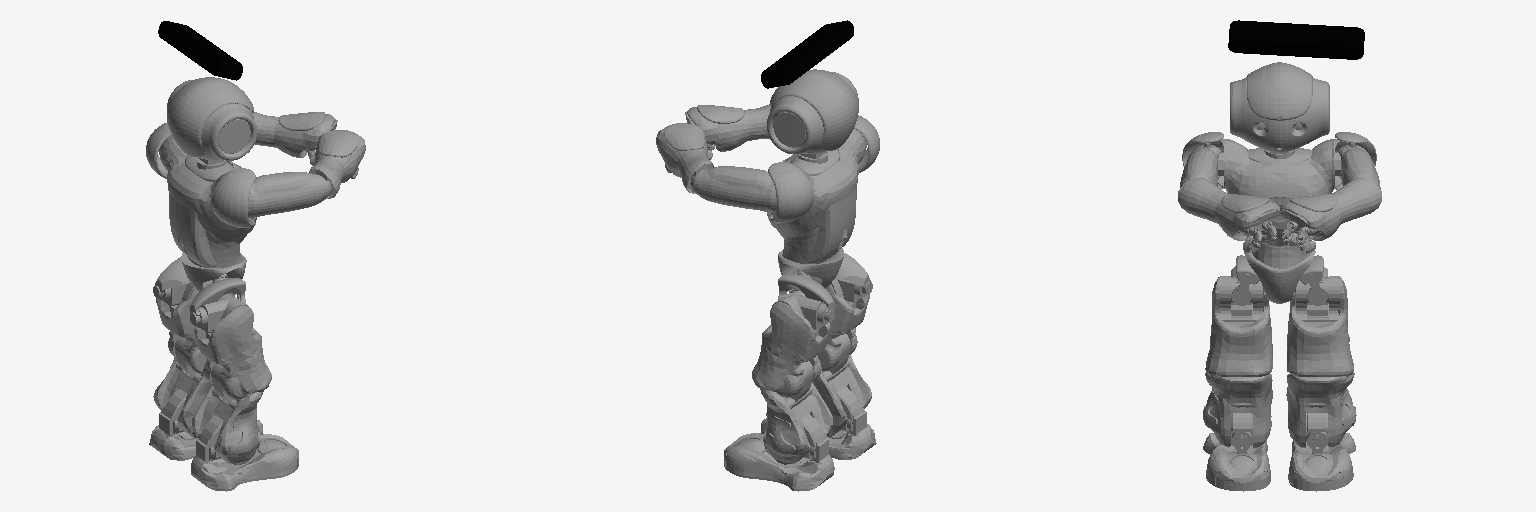
--- Facts derived from the render (not from the file) ---
3 views of the same robot in one strip: view 1: azimuth 30°, elevation 25°; view 2: azimuth 150°, elevation 25°; view 3: azimuth 270°, elevation 25° (orthographic).
Robot: NAOV40 — 84 links, 83 joints (26 revolute, 16 continuous, 41 fixed); root link base_link; default pose: joints at zero except 2 at the middle of their limits (LElbowRoll = -0.7898, RElbowRoll = 0.7898).
Links seen in each view (by area): view 1: torso, Head, RBicep, RThigh, r_ankle, RTibia, xtion_link, LTibia, l_wrist, LThigh, r_wrist, l_ankle (+5 smaller); view 2: torso, Head, LBicep, LThigh, l_ankle, LTibia, xtion_link, RTibia, r_wrist, RThigh, l_wrist, r_ankle (+5 smaller); view 3: torso, Head, LThigh, RThigh, xtion_link, LTibia, RTibia, l_ankle, r_ankle, l_wrist, r_wrist, LBicep (+5 smaller).
Link boxes in pixels (x1,y1,x2,y2): torso: (165, 140, 256, 295); Head: (167, 77, 256, 160); RBicep: (211, 168, 331, 227); RThigh: (194, 293, 271, 398); r_ankle: (191, 432, 298, 491); RTibia: (192, 363, 263, 464); xtion_link: (158, 21, 242, 80); LTibia: (153, 336, 211, 437); l_wrist: (272, 112, 337, 157); LThigh: (156, 280, 212, 373); r_wrist: (315, 130, 365, 182); l_ankle: (149, 407, 262, 460); torso: (767, 133, 860, 291); Head: (767, 69, 858, 154); LBicep: (690, 162, 813, 222); LThigh: (752, 289, 830, 397); l_ankle: (724, 431, 834, 491); LTibia: (760, 361, 832, 464); xtion_link: (761, 20, 853, 88); RTibia: (813, 334, 871, 436); r_wrist: (685, 105, 750, 151); RThigh: (812, 276, 869, 371); l_wrist: (656, 123, 707, 177); r_ankle: (761, 405, 876, 459); torso: (1218, 139, 1341, 303); Head: (1230, 62, 1329, 152); LThigh: (1287, 276, 1353, 376); RThigh: (1205, 276, 1272, 376); xtion_link: (1228, 20, 1364, 59); LTibia: (1286, 372, 1356, 447); RTibia: (1203, 373, 1272, 448); l_ankle: (1288, 432, 1355, 491); r_ankle: (1203, 432, 1270, 491); l_wrist: (1280, 194, 1345, 240); r_wrist: (1213, 194, 1279, 240); LBicep: (1335, 132, 1380, 189).
Size in the robot's own frame: 0.2792 by 0.2719 by 0.6338 metres.
40 mesh visuals loaded from 40 distinct referenced files (40 Collada DAE).

URDF robot description (NAOV40):
<?xml version="1.0" ?>
<!-- =================================================================================== -->
<!-- |    This document was autogenerated by xacro from nao_robot.xacro                | -->
<!-- |    EDITING THIS FILE BY HAND IS NOT RECOMMENDED                                 | -->
<!-- =================================================================================== -->
<!--******************************************************************
 ****** File automatically generated by generate_urdf.py script ******
 *********************************************************************-->
<robot name="NAOV40" xmlns:xacro="http://www.ros.org/wiki/xacro">
  <joint name="HeadYaw" type="revolute">
    <parent link="torso"/>
    <child link="Neck"/>
    <origin rpy="0 0 0" xyz="0 0 0.1265"/>
    <axis xyz="0 0 1.0"/>
    <limit effort="1.547" lower="-2.08567" upper="2.08567" velocity="8.26797"/>
  </joint>
  <link name="Neck">
    <inertial>
      <mass value="0.06442"/>
      <inertia ixx="2.65584e-05" ixy="1.57e-09" ixz="0" iyy="2.75654e-05" iyz="-5.295e-08" izz="5.53372e-06"/>
      <origin rpy="0 0 0" xyz="-1e-05 0 -0.02742"/>
    </inertial>
    <visual>
      <geometry>
        <mesh filename="package://nao_description/meshes/V40/HeadYaw.dae" />
      </geometry>
      <origin rpy="0 0 0" xyz="0 0 0"/>
    </visual>
    <collision>
      <geometry>
        <mesh filename="package://nao_description/meshes/V40/HeadYaw.dae" />
      </geometry>
      <origin rpy="0 0 0" xyz="0 0 0"/>
    </collision>
  </link>
  <joint name="HeadPitch" type="revolute">
    <parent link="Neck"/>
    <child link="Head"/>
    <origin rpy="0 0 0" xyz="0 0 0"/>
    <axis xyz="0 1.0 0"/>
    <limit effort="1.532" lower="-0.671952" upper="0.514872" velocity="7.19407"/>
  </joint>
  <link name="Head">
    <inertial>
      <mass value="0.60533"/>
      <inertia ixx="0.000957766" ixy="8.78814e-06" ixz="5.33702e-06" iyy="0.000816836" iyz="-2.99579e-05" izz="0.000984976"/>
      <origin rpy="0 0 0" xyz="-0.00112 0 0.05258"/>
    </inertial>
    <visual>
      <geometry>
        <mesh filename="package://nao_description/meshes/V40/HeadPitch.dae"/>
      </geometry>
      <origin rpy="0 0 0" xyz="0 0 0"/>
    </visual>
    <collision>
      <geometry>
        <mesh filename="package://nao_description/meshes/V40/HeadPitch.dae" />
      </geometry>
      <origin rpy="0 0 0" xyz="0 0 0"/>
    </collision>
  </link>
  <joint name="gaze_joint" type="fixed">
    <parent link="Head"/>
    <child link="gaze"/>
    <origin rpy="0 0 0" xyz="0.05871 0 0.06364"/>
  </joint>
  <link name="gaze"/>
  <joint name="LHipYawPitch" type="revolute">
    <parent link="torso"/>
    <child link="LPelvis"/>
    <origin rpy="0 0 0" xyz="0 0.05 -0.085"/>
    <axis xyz="0 0.707106 -0.707106"/>
    <limit effort="3.348" lower="-1.14529" upper="0.740718" velocity="4.16174"/>
  </joint>
  <link name="LPelvis">
    <inertial>
      <mass value="0.06981"/>
      <inertia ixx="2.3407e-05" ixy="1.07922e-06" ixz="-1.76003e-06" iyy="4.76355e-05" iyz="2.76058e-06" izz="4.97021e-05"/>
      <origin rpy="0 0 0" xyz="-0.00781 -0.01114 0.02661"/>
    </inertial>
    <visual>
      <geometry>
        <mesh filename="package://nao_description/meshes/V40/LHipYawPitch.dae" />
      </geometry>
      <origin rpy="0 0 0" xyz="0 0 0"/>
    </visual>
    <collision>
      <geometry>
        <mesh filename="package://nao_description/meshes/V40/LHipYawPitch.dae" />
      </geometry>
      <origin rpy="0 0 0" xyz="0 0 0"/>
    </collision>
  </link>
  <joint name="LHipRoll" type="revolute">
    <parent link="LPelvis"/>
    <child link="LHip"/>
    <origin rpy="0 0 0" xyz="0 0 0"/>
    <axis xyz="1.0 0 0"/>
    <limit effort="3.348" lower="-0.379435" upper="0.79046" velocity="4.16174"/>
  </joint>
  <link name="LHip">
    <inertial>
      <mass value="0.13053"/>
      <inertia ixx="2.41106e-05" ixy="-6.08684e-07" ixz="6.33119e-06" iyy="6.34892e-05" iyz="-1.99137e-07" izz="5.67694e-05"/>
      <origin rpy="0 0 0" xyz="-0.01549 0.00029 -0.00515"/>
    </inertial>
    <visual>
      <geometry>
        <mesh filename="package://nao_description/meshes/V40/LHipRoll.dae" />
      </geometry>
      <origin rpy="0 0 0" xyz="0 0 0"/>
    </visual>
    <collision>
      <geometry>
        <mesh filename="package://nao_description/meshes/V40/LHipRoll.dae" />
      </geometry>
      <origin rpy="0 0 0" xyz="0 0 0"/>
    </collision>
  </link>
  <joint name="LHipPitch" type="revolute">
    <parent link="LHip"/>
    <child link="LThigh"/>
    <origin rpy="0 0 0" xyz="0 0 0"/>
    <axis xyz="0 1.0 0"/>
    <limit effort="3.023" lower="-1.53589" upper="0.48398" velocity="6.40239"/>
  </joint>
  <link name="LThigh">
    <inertial>
      <mass value="0.38968"/>
      <inertia ixx="0.000509844" ixy="2.11296e-06" ixz="5.64129e-05" iyy="0.000465358" iyz="-7.91029e-06" izz="0.000301098"/>
      <origin rpy="0 0 0" xyz="0.00138 0.00221 -0.05373"/>
    </inertial>
    <visual>
      <geometry>
        <mesh filename="package://nao_description/meshes/V40/LHipPitch.dae" />
      </geometry>
      <origin rpy="0 0 0" xyz="0 0 0"/>
    </visual>
    <collision>
      <geometry>
        <mesh filename="package://nao_description/meshes/V40/LHipPitch.dae" />
      </geometry>
      <origin rpy="0 0 0" xyz="0 0 0"/>
    </collision>
  </link>
  <joint name="LKneePitch" type="revolute">
    <parent link="LThigh"/>
    <child link="LTibia"/>
    <origin rpy="0 0 0" xyz="0 0 -0.1"/>
    <axis xyz="0 1.0 0"/>
    <limit effort="3.023" lower="-0.0923279" upper="2.11255" velocity="6.40239"/>
  </joint>
  <link name="LTibia">
    <inertial>
      <mass value="0.29142"/>
      <inertia ixx="0.000470586" ixy="3.60392e-06" ixz="-2.86648e-05" iyy="0.000412654" iyz="7.13013e-06" izz="0.000185772"/>
      <origin rpy="0 0 0" xyz="0.00453 0.00225 -0.04936"/>
    </inertial>
    <visual>
      <geometry>
        <mesh filename="package://nao_description/meshes/V40/LKneePitch.dae" />
      </geometry>
      <origin rpy="0 0 0" xyz="0 0 0"/>
    </visual>
    <collision>
      <geometry>
        <mesh filename="package://nao_description/meshes/V40/LKneePitch.dae" />
      </geometry>
      <origin rpy="0 0 0" xyz="0 0 0"/>
    </collision>
  </link>
  <joint name="LAnklePitch" type="revolute">
    <parent link="LTibia"/>
    <child link="LAnklePitch"/>
    <origin rpy="0 0 0" xyz="0 0 -0.1029"/>
    <axis xyz="0 1.0 0"/>
    <limit effort="3.023" lower="-1.18944" upper="0.922581" velocity="6.40239"/>
  </joint>
  <link name="LAnklePitch">
    <inertial>
      <mass value="0.13416"/>
      <inertia ixx="3.22034e-05" ixy="-8.83212e-09" ixz="4.27549e-06" iyy="6.7943e-05" iyz="2.84849e-07" izz="5.48269e-05"/>
      <origin rpy="0 0 0" xyz="0.00045 0.00029 0.00685"/>
    </inertial>
    <visual>
      <geometry>
        <mesh filename="package://nao_description/meshes/V40/LAnklePitch.dae" />
      </geometry>
      <origin rpy="0 0 0" xyz="0 0 0"/>
    </visual>
    <collision>
      <geometry>
        <mesh filename="package://nao_description/meshes/V40/LAnklePitch.dae" />
      </geometry>
      <origin rpy="0 0 0" xyz="0 0 0"/>
    </collision>
  </link>
  <joint name="LAnkleRoll" type="revolute">
    <parent link="LAnklePitch"/>
    <child link="l_ankle"/>
    <origin rpy="0 0 0" xyz="0 0 0"/>
    <axis xyz="1.0 0 0"/>
    <limit effort="3.348" lower="-0.397761" upper="0.768992" velocity="4.16174"/>
  </joint>
  <link name="l_ankle">
    <inertial>
      <mass value="0.16184"/>
      <inertia ixx="9.78911e-05" ixy="7.88039e-06" ixz="6.1279e-06" iyy="0.000369977" iyz="1.44233e-06" izz="0.000419417"/>
      <origin rpy="0 0 0" xyz="0.02542 0.0033 -0.03239"/>
    </inertial>
    <visual>
      <geometry>
        <mesh filename="package://nao_description/meshes/V40/LAnkleRoll.dae" />
      </geometry>
      <origin rpy="0 0 0" xyz="0 0 0"/>
    </visual>
    <collision>
      <geometry>
        <mesh filename="package://nao_description/meshes/V40/LAnkleRoll.dae" />
      </geometry>
      <origin rpy="0 0 0" xyz="0 0 0"/>
    </collision>
  </link>
  <joint name="LLeg_effector_fixedjoint" type="fixed">
    <parent link="l_ankle"/>
    <child link="l_sole"/>
    <origin rpy="0 0 0" xyz="0 0 -0.04511"/>
    <axis xyz="0 0 0"/>
  </joint>
  <link name="l_sole"/>
  <joint name="RHipYawPitch" type="revolute">
    <parent link="torso"/>
    <child link="RPelvis"/>
    <origin rpy="0 0 0" xyz="0 -0.05 -0.085"/>
    <axis xyz="0 0.707106 0.707106"/>
    <limit effort="3.348" lower="-1.14529" upper="0.740718" velocity="4.16174"/>
    <mimic joint="LHipYawPitch" multiplier="1.0" offset="0"/>
  </joint>
  <link name="RPelvis">
    <inertial>
      <mass value="0.06981"/>
      <inertia ixx="3.18766e-05" ixy="-1.07152e-06" ixz="-1.77295e-06" iyy="5.18361e-05" iyz="-7.00664e-06" izz="5.39657e-05"/>
      <origin rpy="0 0 0" xyz="-0.00781 0.01114 0.02661"/>
    </inertial>
    <visual>
      <geometry>
        <mesh filename="package://nao_description/meshes/V40/RHipYawPitch.dae" />
      </geometry>
      <origin rpy="0 0 0" xyz="0 0 0"/>
    </visual>
    <collision>
      <geometry>
        <mesh filename="package://nao_description/meshes/V40/RHipYawPitch.dae" />
      </geometry>
      <origin rpy="0 0 0" xyz="0 0 0"/>
    </collision>
  </link>
  <joint name="RHipRoll" type="revolute">
    <parent link="RPelvis"/>
    <child link="RHip"/>
    <origin rpy="0 0 0" xyz="0 0 0"/>
    <axis xyz="1.0 0 0"/>
    <limit effort="3.348" lower="-0.79046" upper="0.379435" velocity="4.16174"/>
  </joint>
  <link name="RHip">
    <inertial>
      <mass value="0.13053"/>
      <inertia ixx="2.41136e-05" ixy="5.67164e-07" ixz="6.30461e-06" iyy="6.34886e-05" iyz="1.97457e-07" izz="5.6773e-05"/>
      <origin rpy="0 0 0" xyz="-0.01549 -0.00029 -0.00515"/>
    </inertial>
    <visual>
      <geometry>
        <mesh filename="package://nao_description/meshes/V40/RHipRoll.dae" />
      </geometry>
      <origin rpy="0 0 0" xyz="0 0 0"/>
    </visual>
    <collision>
      <geometry>
        <mesh filename="package://nao_description/meshes/V40/RHipRoll.dae" />
      </geometry>
      <origin rpy="0 0 0" xyz="0 0 0"/>
    </collision>
  </link>
  <joint name="RHipPitch" type="revolute">
    <parent link="RHip"/>
    <child link="RThigh"/>
    <origin rpy="0 0 0" xyz="0 0 0"/>
    <axis xyz="0 1.0 0"/>
    <limit effort="3.0226" lower="-1.53589" upper="0.48398" velocity="6.40239"/>
  </joint>
  <link name="RThigh">
    <inertial>
      <mass value="0.38968"/>
      <inertia ixx="0.000510607" ixy="-2.02799e-06" ixz="5.69893e-05" iyy="0.0004665" iyz="7.09563e-06" izz="0.000301333"/>
      <origin rpy="0 0 0" xyz="0.00138 -0.00221 -0.05373"/>
    </inertial>
    <visual>
      <geometry>
        <mesh filename="package://nao_description/meshes/V40/RHipPitch.dae" />
      </geometry>
      <origin rpy="0 0 0" xyz="0 0 0"/>
    </visual>
    <collision>
      <geometry>
        <mesh filename="package://nao_description/meshes/V40/RHipPitch.dae" />
      </geometry>
      <origin rpy="0 0 0" xyz="0 0 0"/>
    </collision>
  </link>
  <joint name="RKneePitch" type="revolute">
    <parent link="RThigh"/>
    <child link="RTibia"/>
    <origin rpy="0 0 0" xyz="0 0 -0.1"/>
    <axis xyz="0 1.0 0"/>
    <limit effort="3.0226" lower="-0.0923279" upper="2.11255" velocity="6.40239"/>
  </joint>
  <link name="RTibia">
    <inertial>
      <mass value="0.29142"/>
      <inertia ixx="0.000471336" ixy="-3.8668e-06" ixz="-3.71648e-05" iyy="0.00041228" iyz="-6.11093e-06" izz="0.000183997"/>
      <origin rpy="0 0 0" xyz="0.00453 -0.00225 -0.04936"/>
    </inertial>
    <visual>
      <geometry>
        <mesh filename="package://nao_description/meshes/V40/RKneePitch.dae" />
      </geometry>
      <origin rpy="0 0 0" xyz="0 0 0"/>
    </visual>
    <collision>
      <geometry>
        <mesh filename="package://nao_description/meshes/V40/RKneePitch.dae" />
      </geometry>
      <origin rpy="0 0 0" xyz="0 0 0"/>
    </collision>
  </link>
  <joint name="RAnklePitch" type="revolute">
    <parent link="RTibia"/>
    <child link="RAnklePitch"/>
    <origin rpy="0 0 0" xyz="0 0 -0.1029"/>
    <axis xyz="0 1.0 0"/>
    <limit effort="3.0226" lower="-1.1863" upper="0.932006" velocity="6.40239"/>
  </joint>
  <link name="RAnklePitch">
    <inertial>
      <mass value="0.13416"/>
      <inertia ixx="3.22017e-05" ixy="4.68321e-08" ixz="4.28821e-06" iyy="6.79885e-05" iyz="-2.71089e-07" izz="5.48747e-05"/>
      <origin rpy="0 0 0" xyz="0.00045 -0.00029 0.00685"/>
    </inertial>
    <visual>
      <geometry>
        <mesh filename="package://nao_description/meshes/V40/RAnklePitch.dae" />
      </geometry>
      <origin rpy="0 0 0" xyz="0 0 0"/>
    </visual>
    <collision>
      <geometry>
        <mesh filename="package://nao_description/meshes/V40/RAnklePitch.dae" />
      </geometry>
      <origin rpy="0 0 0" xyz="0 0 0"/>
    </collision>
  </link>
  <joint name="RAnkleRoll" type="revolute">
    <parent link="RAnklePitch"/>
    <child link="r_ankle"/>
    <origin rpy="0 0 0" xyz="0 0 0"/>
    <axis xyz="1.0 0 0"/>
    <limit effort="3.348" lower="-0.768992" upper="0.397761" velocity="4.16174"/>
  </joint>
  <link name="r_ankle">
    <inertial>
      <mass value="0.16184"/>
      <inertia ixx="9.77513e-05" ixy="-7.70106e-06" ixz="5.88169e-06" iyy="0.000369108" iyz="-1.55058e-06" izz="0.000418695"/>
      <origin rpy="0 0 0" xyz="0.02542 -0.0033 -0.03239"/>
    </inertial>
    <visual>
      <geometry>
        <mesh filename="package://nao_description/meshes/V40/RAnkleRoll.dae" />
      </geometry>
      <origin rpy="0 0 0" xyz="0 0 0"/>
    </visual>
    <collision>
      <geometry>
        <mesh filename="package://nao_description/meshes/V40/RAnkleRoll.dae" />
      </geometry>
      <origin rpy="0 0 0" xyz="0 0 0"/>
    </collision>
  </link>
  <joint name="RLeg_effector_fixedjoint" type="fixed">
    <parent link="r_ankle"/>
    <child link="r_sole"/>
    <origin rpy="0 0 0" xyz="0 0 -0.04511"/>
    <axis xyz="0 0 0"/>
  </joint>
  <link name="r_sole"/>
  <link name="base_link"/>
  <joint name="base_link_fixedjoint" type="fixed">
    <parent link="base_link"/>
    <child link="torso"/>
    <origin rpy="0 0 0" xyz="0 0 0"/>
    <axis xyz="0 0 0"/>
  </joint>
  <link name="torso">
    <inertial>
      <mass value="1.04956"/>
      <inertia ixx="0.00308361" ixy="1.43116e-05" ixz="-3.30211e-05" iyy="0.0028835" iyz="-2.70793e-05" izz="0.0015924"/>
      <origin rpy="0 0 0" xyz="-0.00413 0 0.04342"/>
    </inertial>
    <visual>
      <geometry>
        <mesh filename="package://nao_description/meshes/V40/Torso.dae" />
      </geometry>
      <origin rpy="0 0 0" xyz="0 0 0"/>
    </visual>
    <collision>
      <geometry>
        <mesh filename="package://nao_description/meshes/V40/Torso.dae" />
      </geometry>
      <origin rpy="0 0 0" xyz="0 0 0"/>
    </collision>
  </link>
  <joint name="LShoulderPitch" type="revolute">
    <parent link="torso"/>
    <child link="LShoulder"/>
    <origin rpy="0 0 0" xyz="0 0.098 0.1"/>
    <axis xyz="0 1.0 0"/>
    <limit effort="1.329" lower="-2.08567" upper="2.08567" velocity="8.26797"/>
  </joint>
  <link name="LShoulder">
    <inertial>
      <mass value="0.07504"/>
      <inertia ixx="3.10677e-05" ixy="1.2692e-06" ixz="6.04576e-09" iyy="1.39498e-05" iyz="-2.99484e-07" izz="3.30001e-05"/>
      <origin rpy="0 0 0" xyz="-0.00165 -0.02663 0.00014"/>
    </inertial>
    <visual>
      <geometry>
        <mesh filename="package://nao_description/meshes/V40/LShoulderPitch.dae" />
      </geometry>
      <origin rpy="0 0 0" xyz="0 0 0"/>
    </visual>
    <collision>
      <geometry>
        <mesh filename="package://nao_description/meshes/V40/LShoulderPitch.dae" />
      </geometry>
      <origin rpy="0 0 0" xyz="0 0 0"/>
    </collision>
  </link>
  <joint name="LShoulderRoll" type="revolute">
    <parent link="LShoulder"/>
    <child link="LBicep"/>
    <origin rpy="0 0 0" xyz="0 0 0"/>
    <axis xyz="0 0 1.0"/>
    <limit effort="1.7835" lower="-0.314159" upper="1.32645" velocity="7.19407"/>
  </joint>
  <link name="LBicep">
    <inertial>
      <mass value="0.15777"/>
      <inertia ixx="8.7181e-05" ixy="-2.53381e-05" ixz="-1.4213e-05" iyy="0.000274712" iyz="4.71439e-07" izz="0.000241812"/>
      <origin rpy="0 0 0" xyz="0.02455 0.00563 0.0033"/>
    </inertial>
    <visual>
      <geometry>
        <mesh filename="package://nao_description/meshes/V40/LShoulderRoll.dae" />
      </geometry>
      <origin rpy="0 0 0" xyz="0 0 0"/>
    </visual>
    <collision>
      <geometry>
        <mesh filename="package://nao_description/meshes/V40/LShoulderRoll.dae" />
      </geometry>
      <origin rpy="0 0 0" xyz="0 0 0"/>
    </collision>
  </link>
  <joint name="LElbowYaw" type="revolute">
    <parent link="LBicep"/>
    <child link="LElbow"/>
    <origin rpy="0 0 0" xyz="0.105 0.015 0"/>
    <axis xyz="1.0 0 0"/>
    <limit effort="1.547" lower="-2.08567" upper="2.08567" velocity="8.26797"/>
  </joint>
  <link name="LElbow">
    <inertial>
      <mass value="0.06483"/>
      <inertia ixx="5.59588e-06" ixy="4.21e-09" ixz="2.92241e-07" iyy="2.66179e-05" iyz="-1.84e-09" izz="2.76294e-05"/>
      <origin rpy="0 0 0" xyz="-0.02744 0 -0.00014"/>
    </inertial>
  </link>
  <joint name="LElbowRoll" type="revolute">
    <parent link="LElbow"/>
    <child link="LForeArm"/>
    <origin rpy="0 0 0" xyz="0 0 0"/>
    <axis xyz="0 0 1.0"/>
    <limit effort="1.532" lower="-1.54462" upper="-0.0349066" velocity="7.19407"/>
  </joint>
  <link name="LForeArm">
    <inertial>
      <mass value="0.07761"/>
      <inertia ixx="2.46746e-05" ixy="3.23152e-06" ixz="1.58221e-06" iyy="3.83837e-05" iyz="1.39194e-07" izz="3.59708e-05"/>
      <origin rpy="0 0 0" xyz="0.02556 0.00281 0.00076"/>
    </inertial>
    <visual>
      <geometry>
        <mesh filename="package://nao_description/meshes/V40/LElbowRoll.dae" />
      </geometry>
      <origin rpy="0 0 0" xyz="0 0 0"/>
    </visual>
    <collision>
      <geometry>
        <mesh filename="package://nao_description/meshes/V40/LElbowRoll.dae" />
      </geometry>
      <origin rpy="0 0 0" xyz="0 0 0"/>
    </collision>
  </link>
  <joint name="LWristYaw" type="revolute">
    <parent link="LForeArm"/>
    <child link="l_wrist"/>
    <origin rpy="0 0 0" xyz="0.05595 0 0"/>
    <axis xyz="1.0 0 0"/>
    <limit effort="0.4075" lower="-1.82387" upper="1.82387" velocity="24.6229"/>
  </joint>
  <link name="l_wrist">
    <inertial>
      <mass value="0.18533"/>
      <inertia ixx="6.86477e-05" ixy="1.15465e-07" ixz="-2.87254e-06" iyy="0.000135756" iyz="2.67539e-06" izz="0.000133228"/>
      <origin rpy="0 0 0" xyz="0.03434 -0.00088 0.00308"/>
    </inertial>
    <visual>
      <geometry>
        <mesh filename="package://nao_description/meshes/V40/LWristYaw.dae" />
      </geometry>
      <origin rpy="0 0 0" xyz="0 0 0"/>
    </visual>
    <collision>
      <geometry>
        <mesh filename="package://nao_description/meshes/V40/LWristYaw.dae" />
      </geometry>
      <origin rpy="0 0 0" xyz="0 0 0"/>
    </collision>
  </link>
  <joint name="LHand" type="revolute">
    <parent link="l_wrist"/>
    <child link="l_gripper"/>
    <origin rpy="0 0 0" xyz="0.05775 0 -0.01231"/>
    <axis xyz="1.0 0 0"/>
    <limit effort="0.292" lower="0" upper="1.0" velocity="8.33"/>
  </joint>
  <link name="l_gripper">
    <inertial>
      <mass value="2e-06"/>
      <inertia ixx="1.1e-09" ixy="0" ixz="0" iyy="1.1e-09" iyz="0" izz="1.1e-09"/>
    </inertial>
  </link>
  <joint name="RShoulderPitch" type="revolute">
    <parent link="torso"/>
    <child link="RShoulder"/>
    <origin rpy="0 0 0" xyz="0 -0.098 0.1"/>
    <axis xyz="0 1.0 0"/>
    <limit effort="1.329" lower="-2.08567" upper="2.08567" velocity="8.26797"/>
  </joint>
  <link name="RShoulder">
    <inertial>
      <mass value="0.07504"/>
      <inertia ixx="3.10677e-05" ixy="-1.2692e-06" ixz="6.04576e-09" iyy="1.39498e-05" iyz="2.99484e-07" izz="3.30001e-05"/>
      <origin rpy="0 0 0" xyz="-0.00165 0.02663 0.00014"/>
    </inertial>
    <visual>
      <geometry>
        <mesh filename="package://nao_description/meshes/V40/RShoulderPitch.dae" />
      </geometry>
      <origin rpy="0 0 0" xyz="0 0 0"/>
    </visual>
    <collision>
      <geometry>
        <mesh filename="package://nao_description/meshes/V40/RShoulderPitch.dae" />
      </geometry>
      <origin rpy="0 0 0" xyz="0 0 0"/>
    </collision>
  </link>
  <joint name="RShoulderRoll" type="revolute">
    <parent link="RShoulder"/>
    <child link="RBicep"/>
    <origin rpy="0 0 0" xyz="0 0 0"/>
    <axis xyz="0 0 1.0"/>
    <limit effort="1.783" lower="-1.32645" upper="0.314159" velocity="7.19407"/>
  </joint>
  <link name="RBicep">
    <inertial>
      <mass value="0.15777"/>
      <inertia ixx="0.000103401" ixy="5.48849e-05" ixz="-1.32643e-05" iyy="0.00027077" iyz="9.16707e-06" izz="0.000254529"/>
      <origin rpy="0 0 0" xyz="0.02455 -0.00563 0.0033"/>
    </inertial>
    <visual>
      <geometry>
        <mesh filename="package://nao_description/meshes/V40/RShoulderRoll.dae" />
      </geometry>
      <origin rpy="0 0 0" xyz="0 0 0"/>
    </visual>
    <collision>
      <geometry>
        <mesh filename="package://nao_description/meshes/V40/RShoulderRoll.dae" />
      </geometry>
      <origin rpy="0 0 0" xyz="0 0 0"/>
    </collision>
  </link>
  <joint name="RElbowYaw" type="revolute">
    <parent link="RBicep"/>
    <child link="RElbow"/>
    <origin rpy="0 0 0" xyz="0.105 -0.015 0"/>
    <axis xyz="1.0 0 0"/>
    <limit effort="1.547" lower="-2.08567" upper="2.08567" velocity="8.26797"/>
  </joint>
  <link name="RElbow">
    <inertial>
      <mass value="0.06483"/>
      <inertia ixx="5.59588e-06" ixy="4.21e-09" ixz="2.92241e-07" iyy="2.66179e-05" iyz="-1.84e-09" izz="2.76294e-05"/>
      <origin rpy="0 0 0" xyz="-0.02744 0 -0.00014"/>
    </inertial>
  </link>
  <joint name="RElbowRoll" type="revolute">
    <parent link="RElbow"/>
    <child link="RForeArm"/>
    <origin rpy="0 0 0" xyz="0 0 0"/>
    <axis xyz="0 0 1.0"/>
    <limit effort="1.532" lower="0.0349066" upper="1.54462" velocity="7.19407"/>
  </joint>
  <link name="RForeArm">
    <inertial>
      <mass value="0.07761"/>
      <inertia ixx="2.47331e-05" ixy="-3.2418e-06" ixz="9.06451e-07" iyy="3.84719e-05" iyz="-1.38804e-07" izz="3.59319e-05"/>
      <origin rpy="0 0 0" xyz="0.02556 -0.00281 0.00076"/>
    </inertial>
    <visual>
      <geometry>
        <mesh filename="package://nao_description/meshes/V40/RElbowRoll.dae" />
      </geometry>
      <origin rpy="0 0 0" xyz="0 0 0"/>
    </visual>
    <collision>
      <geometry>
        <mesh filename="package://nao_description/meshes/V40/RElbowRoll.dae" />
      </geometry>
      <origin rpy="0 0 0" xyz="0 0 0"/>
    </collision>
  </link>
  <joint name="RWristYaw" type="revolute">
    <parent link="RForeArm"/>
    <child link="r_wrist"/>
    <origin rpy="0 0 0" xyz="0.05595 0 0"/>
    <axis xyz="1.0 0 0"/>
    <limit effort="0.4075" lower="-1.82387" upper="1.82387" velocity="24.6229"/>
  </joint>
  <link name="r_wrist">
    <inertial>
      <mass value="0.18533"/>
      <inertia ixx="6.86477e-05" ixy="1.13165e-05" ixz="-2.87254e-06" iyy="0.000135756" iyz="3.68003e-06" izz="0.000133228"/>
      <origin rpy="0 0 0" xyz="0.03434 0.00088 0.00308"/>
    </inertial>
    <visual>
      <geometry>
        <mesh filename="package://nao_description/meshes/V40/RWristYaw.dae" />
      </geometry>
      <origin rpy="0 0 0" xyz="0 0 0"/>
    </visual>
    <collision>
      <geometry>
        <mesh filename="package://nao_description/meshes/V40/RWristYaw.dae" />
      </geometry>
      <origin rpy="0 0 0" xyz="0 0 0"/>
    </collision>
  </link>
  <joint name="RHand" type="revolute">
    <parent link="r_wrist"/>
    <child link="r_gripper"/>
    <origin rpy="0 0 0" xyz="0.05775 0 -0.01213"/>
    <axis xyz="1.0 0 0"/>
    <limit effort="0.292" lower="0" upper="1.0" velocity="8.33"/>
  </joint>
  <link name="r_gripper">
    <inertial>
      <mass value="2e-06"/>
      <inertia ixx="1.1e-09" ixy="0" ixz="0" iyy="1.1e-09" iyz="0" izz="1.1e-09"/>
    </inertial>
  </link>
  <link name="LFootBumperRight_frame"/>
  <joint name="LFootBumperRight" type="fixed">
    <parent link="l_ankle"/>
    <child link="LFootBumperRight_frame"/>
    <origin rpy="0 0 0" xyz="0.0876 -0.014 -0.0353"/>
    <axis xyz="0 0 0"/>
  </joint>
  <link name="RFsrRL_frame">
    <collision>
      <geometry>
        <box size="0.01 0.01 0.005"/>
      </geometry>
      <origin rpy="0 0 0" xyz="0 0 0"/>
    </collision>
    <inertial>
      <mass value="2e-06"/>
      <inertia ixx="1.1e-09" ixy="0" ixz="0" iyy="1.1e-09" iyz="0" izz="1.1e-09"/>
    </inertial>
  </link>
  <joint name="RFsrRL" type="fixed">
    <parent link="r_ankle"/>
    <child link="RFsrRL_frame"/>
    <origin rpy="0 0 0" xyz="-0.03025 0.0191 -0.04511"/>
    <axis xyz="0 0 0"/>
  </joint>
  <link name="CameraBottom_optical_frame"/>
  <joint name="CameraBottom_optical_frame_fixedjoint" type="fixed">
    <parent link="CameraBottom_frame"/>
    <child link="CameraBottom_optical_frame"/>
    <origin rpy="-1.57079632679 0 -1.57079632679" xyz="0 0 0"/>
  </joint>
  <link name="RFsrRR_frame">
    <collision>
      <geometry>
        <box size="0.01 0.01 0.005"/>
      </geometry>
      <origin rpy="0 0 0" xyz="0 0 0"/>
    </collision>
    <inertial>
      <mass value="2e-06"/>
      <inertia ixx="1.1e-09" ixy="0" ixz="0" iyy="1.1e-09" iyz="0" izz="1.1e-09"/>
    </inertial>
  </link>
  <joint name="RFsrRR" type="fixed">
    <parent link="r_ankle"/>
    <child link="RFsrRR_frame"/>
    <origin rpy="0 0 0" xyz="-0.02965 -0.0299 -0.04511"/>
    <axis xyz="0 0 0"/>
  </joint>
  <link name="LFsrFR_frame">
    <collision>
      <geometry>
        <box size="0.01 0.01 0.005"/>
      </geometry>
      <origin rpy="0 0 0" xyz="0 0 0"/>
    </collision>
    <inertial>
      <mass value="2e-06"/>
      <inertia ixx="1.1e-09" ixy="0" ixz="0" iyy="1.1e-09" iyz="0" izz="1.1e-09"/>
    </inertial>
  </link>
  <joint name="LFsrFR" type="fixed">
    <parent link="l_ankle"/>
    <child link="LFsrFR_frame"/>
    <origin rpy="0 0 0" xyz="0.07025 -0.0231 -0.04511"/>
    <axis xyz="0 0 0"/>
  </joint>
  <link name="LHandTouchBack_frame"/>
  <joint name="LHand/Touch/Back_sensor_fixedjoint" type="fixed">
    <parent link="l_wrist"/>
    <child link="LHandTouchBack_frame"/>
    <origin rpy="3.14159 -1.5708 3.14159" xyz="0.038 0 0.025"/>
    <axis xyz="0 0 0"/>
  </joint>
  <link name="LHandTouchLeft_frame"/>
  <joint name="LHand/Touch/Left_sensor_fixedjoint" type="fixed">
    <parent link="l_wrist"/>
    <child link="LHandTouchLeft_frame"/>
    <origin rpy="0 0 1.5708" xyz="0.032 0.025 0.003"/>
    <axis xyz="0 0 0"/>
  </joint>
  <link name="RFootBumperRight_frame"/>
  <joint name="RFootBumperRight" type="fixed">
    <parent link="r_ankle"/>
    <child link="RFootBumperRight_frame"/>
    <origin rpy="0 0 0" xyz="0.0876 -0.019 -0.0353"/>
    <axis xyz="0 0 0"/>
  </joint>
  <link name="RFsrFR_frame">
    <collision>
      <geometry>
        <box size="0.01 0.01 0.005"/>
      </geometry>
      <origin rpy="0 0 0" xyz="0 0 0"/>
    </collision>
    <inertial>
      <mass value="2e-06"/>
      <inertia ixx="1.1e-09" ixy="0" ixz="0" iyy="1.1e-09" iyz="0" izz="1.1e-09"/>
    </inertial>
  </link>
  <joint name="RFsrFR" type="fixed">
    <parent link="r_ankle"/>
    <child link="RFsrFR_frame"/>
    <origin rpy="0 0 0" xyz="0.07025 -0.0299 -0.04511"/>
    <axis xyz="0 0 0"/>
  </joint>
  <link name="MicroSurroundLeft_frame"/>
  <joint name="MicroLeft_sensor_fixedjoint" type="fixed">
    <parent link="Head"/>
    <child link="MicroSurroundLeft_frame"/>
    <origin rpy="0 0 0" xyz="-0.0195 0.0606 0.0331"/>
    <axis xyz="0 0 0"/>
  </joint>
  <link name="LFsrRR_frame">
    <collision>
      <geometry>
        <box size="0.01 0.01 0.005"/>
      </geometry>
      <origin rpy="0 0 0" xyz="0 0 0"/>
    </collision>
    <inertial>
      <mass value="2e-06"/>
      <inertia ixx="1.1e-09" ixy="0" ixz="0" iyy="1.1e-09" iyz="0" izz="1.1e-09"/>
    </inertial>
  </link>
  <joint name="LFsrRR" type="fixed">
    <parent link="l_ankle"/>
    <child link="LFsrRR_frame"/>
    <origin rpy="0 0 0" xyz="-0.02965 -0.0191 -0.04511"/>
    <axis xyz="0 0 0"/>
  </joint>
  <link name="MicroSurroundRight_frame"/>
  <joint name="MicroRight_sensor_fixedjoint" type="fixed">
    <parent link="Head"/>
    <child link="MicroSurroundRight_frame"/>
    <origin rpy="0 0 0" xyz="-0.0195 -0.0606 0.0331"/>
    <axis xyz="0 0 0"/>
  </joint>
  <link name="ImuTorsoAccelerometer_frame"/>
  <joint name="Accelerometer_sensor_fixedjoint" type="fixed">
    <parent link="torso"/>
    <child link="ImuTorsoAccelerometer_frame"/>
    <origin rpy="0 0 0" xyz="-0.008 0.00606 0.027"/>
    <axis xyz="0 0 0"/>
  </joint>
  <link name="HeadTouchFront_frame"/>
  <joint name="Head/Touch/Front_sensor_fixedjoint" type="fixed">
    <parent link="Head"/>
    <child link="HeadTouchFront_frame"/>
    <origin rpy="0 -1.1861 0" xyz="0.0312 0 0.1014"/>
    <axis xyz="0 0 0"/>
  </joint>
  <link name="RFootBumperLeft_frame"/>
  <joint name="RFootBumperLeft" type="fixed">
    <parent link="r_ankle"/>
    <child link="RFootBumperLeft_frame"/>
    <origin rpy="0 0 0" xyz="0.0876 0.014 -0.0353"/>
    <axis xyz="0 0 0"/>
  </joint>
  <link name="RSonar_frame"/>
  <joint name="Sonar/Right_sensor_fixedjoint" type="fixed">
    <parent link="torso"/>
    <child link="RSonar_frame"/>
    <origin rpy="0.00478508 0.0436497 -0.392441" xyz="0.00558253 -0.0192068 0.0623853"/>
    <axis xyz="0 0 0"/>
  </joint>
  <link name="RHandTouchRight_frame"/>
  <joint name="RHand/Touch/Right_sensor_fixedjoint" type="fixed">
    <parent link="r_wrist"/>
    <child link="RHandTouchRight_frame"/>
    <origin rpy="0 0 -1.5708" xyz="0.035 -0.025 0.0035"/>
    <axis xyz="0 0 0"/>
  </joint>
  <link name="RHandTouchBack_frame"/>
  <joint name="RHand/Touch/Back_sensor_fixedjoint" type="fixed">
    <parent link="r_wrist"/>
    <child link="RHandTouchBack_frame"/>
    <origin rpy="3.14159 -1.5708 3.14159" xyz="0.038 0 0.025"/>
    <axis xyz="0 0 0"/>
  </joint>
  <link name="RFsrFL_frame">
    <collision>
      <geometry>
        <box size="0.01 0.01 0.005"/>
      </geometry>
      <origin rpy="0 0 0" xyz="0 0 0"/>
    </collision>
    <inertial>
      <mass value="2e-06"/>
      <inertia ixx="1.1e-09" ixy="0" ixz="0" iyy="1.1e-09" iyz="0" izz="1.1e-09"/>
    </inertial>
  </link>
  <joint name="RFsrFL" type="fixed">
    <parent link="r_ankle"/>
    <child link="RFsrFL_frame"/>
    <origin rpy="0 0 0" xyz="0.07025 0.0231 -0.04511"/>
    <axis xyz="0 0 0"/>
  </joint>
  <link name="LSonar_frame"/>
  <joint name="Sonar/Left_sensor_fixedjoint" type="fixed">
    <parent link="torso"/>
    <child link="LSonar_frame"/>
    <origin rpy="-0.00478508 0.0436497 0.392441" xyz="0.00558253 0.0192068 0.0623853"/>
    <axis xyz="0 0 0"/>
  </joint>
  <link name="LFsrFL_frame">
    <collision>
      <geometry>
        <box size="0.01 0.01 0.005"/>
      </geometry>
      <origin rpy="0 0 0" xyz="0 0 0"/>
    </collision>
    <inertial>
      <mass value="2e-06"/>
      <inertia ixx="1.1e-09" ixy="0" ixz="0" iyy="1.1e-09" iyz="0" izz="1.1e-09"/>
    </inertial>
  </link>
  <joint name="LFsrFL" type="fixed">
    <parent link="l_ankle"/>
    <child link="LFsrFL_frame"/>
    <origin rpy="0 0 0" xyz="0.07025 0.0299 -0.04511"/>
    <axis xyz="0 0 0"/>
  </joint>
  <link name="LFsrRL_frame">
    <collision>
      <geometry>
        <box size="0.01 0.01 0.005"/>
      </geometry>
      <origin rpy="0 0 0" xyz="0 0 0"/>
    </collision>
    <inertial>
      <mass value="2e-06"/>
      <inertia ixx="1.1e-09" ixy="0" ixz="0" iyy="1.1e-09" iyz="0" izz="1.1e-09"/>
    </inertial>
  </link>
  <joint name="LFsrRL" type="fixed">
    <parent link="l_ankle"/>
    <child link="LFsrRL_frame"/>
    <origin rpy="0 0 0" xyz="-0.03025 0.0299 -0.04511"/>
    <axis xyz="0 0 0"/>
  </joint>
  <link name="RHandTouchLeft_frame"/>
  <joint name="RHand/Touch/Left_sensor_fixedjoint" type="fixed">
    <parent link="r_wrist"/>
    <child link="RHandTouchLeft_frame"/>
    <origin rpy="0 0 1.5708" xyz="0.032 0.025 0.003"/>
    <axis xyz="0 0 0"/>
  </joint>
  <link name="CameraBottom_frame"/>
  <joint name="CameraBottom_sensor_fixedjoint" type="fixed">
    <parent link="Head"/>
    <child link="CameraBottom_frame"/>
    <origin rpy="0 0.692896 0" xyz="0.05071 0 0.01774"/>
    <axis xyz="0 0 0"/>
  </joint>
  <link name="CameraTop_frame"/>
  <joint name="CameraTop_sensor_fixedjoint" type="fixed">
    <parent link="Head"/>
    <child link="CameraTop_frame"/>
    <origin rpy="0 0.0209435 0" xyz="0.05871 0 0.06364"/>
    <axis xyz="0 0 0"/>
  </joint>
  <link name="CameraTop_optical_frame"/>
  <joint name="CameraTop_optical_frame_fixedjoint" type="fixed">
    <parent link="CameraTop_frame"/>
    <child link="CameraTop_optical_frame"/>
    <origin rpy="-1.57079632679 0 -1.57079632679" xyz="0 0 0"/>
  </joint>
  <link name="LInfraRed_frame"/>
  <joint name="InfraredL_sensor_fixedjoint" type="fixed">
    <parent link="Head"/>
    <child link="LInfraRed_frame"/>
    <origin rpy="0 0 0" xyz="0.0441 0.0257 0.0466"/>
    <axis xyz="0 0 0"/>
  </joint>
  <link name="ImuTorsoGyrometer_frame"/>
  <joint name="Gyrometer_sensor_fixedjoint" type="fixed">
    <parent link="torso"/>
    <child link="ImuTorsoGyrometer_frame"/>
    <origin rpy="0 0 0" xyz="-0.008 0.006 0.029"/>
    <axis xyz="0 0 0"/>
  </joint>
  <link name="MicroFrontCenter_frame"/>
  <joint name="MicroFront_sensor_fixedjoint" type="fixed">
    <parent link="Head"/>
    <child link="MicroFrontCenter_frame"/>
    <origin rpy="0 0 0" xyz="0.041 0 0.091"/>
    <axis xyz="0 0 0"/>
  </joint>
  <link name="HeadTouchRear_frame"/>
  <joint name="Head/Touch/Rear_sensor_fixedjoint" type="fixed">
    <parent link="Head"/>
    <child link="HeadTouchRear_frame"/>
    <origin rpy="3.14159 -1.33319 -3.14159" xyz="-0.0257 0 0.1045"/>
    <axis xyz="0 0 0"/>
  </joint>
  <link name="HeadTouchMiddle_frame"/>
  <joint name="Head/Touch/Middle_sensor_fixedjoint" type="fixed">
    <parent link="Head"/>
    <child link="HeadTouchMiddle_frame"/>
    <origin rpy="3.14159 -1.57079 -3.14159" xyz="0.001 0 0.1099"/>
    <axis xyz="0 0 0"/>
  </joint>
  <link name="RInfraRed_frame"/>
  <joint name="InfraredR_sensor_fixedjoint" type="fixed">
    <parent link="Head"/>
    <child link="RInfraRed_frame"/>
    <origin rpy="0 0 0" xyz="0.0441 -0.0257 0.0466"/>
    <axis xyz="0 0 0"/>
  </joint>
  <link name="ChestButton_frame"/>
  <joint name="ChestBoard/Button_sensor_fixedjoint" type="fixed">
    <parent link="torso"/>
    <child link="ChestButton_frame"/>
    <origin rpy="0 0 0" xyz="0.049871 0.001588 0.055163"/>
    <axis xyz="0 0 0"/>
  </joint>
  <link name="LFootBumperLeft_frame"/>
  <joint name="LFootBumperLeft" type="fixed">
    <parent link="l_ankle"/>
    <child link="LFootBumperLeft_frame"/>
    <origin rpy="0 0 0" xyz="0.0876 0.019 -0.0353"/>
    <axis xyz="0 0 0"/>
  </joint>
  <link name="MicroRearCenter_frame"/>
  <joint name="MicroRear_sensor_fixedjoint" type="fixed">
    <parent link="Head"/>
    <child link="MicroRearCenter_frame"/>
    <origin rpy="0 0 0" xyz="-0.0577 0 0.0693"/>
    <axis xyz="0 0 0"/>
  </joint>
  <link name="LHandTouchRight_frame"/>
  <joint name="LHand/Touch/Right_sensor_fixedjoint" type="fixed">
    <parent link="l_wrist"/>
    <child link="LHandTouchRight_frame"/>
    <origin rpy="0 0 -1.5708" xyz="0.035 -0.025 0.0035"/>
    <axis xyz="0 0 0"/>
  </joint>
  <link name="RFinger23_link">
    <inertial>
      <mass value="2e-06"/>
      <inertia ixx="1.1e-09" ixy="0" ixz="0" iyy="1.1e-09" iyz="0" izz="1.1e-09"/>
    </inertial>
    <visual>
      <geometry>
        <mesh filename="package://nao_description/meshes/V40/RFinger23.dae" />
      </geometry>
      <origin rpy="0 0 0" xyz="0 0 0"/>
    </visual>
    <collision>
      <geometry>
        <mesh filename="package://nao_description/meshes/V40/RFinger23.dae" />
      </geometry>
      <origin rpy="0 0 0" xyz="0 0 0"/>
    </collision>
  </link>
  <joint name="RFinger23" type="continuous">
    <parent link="RFinger22_link"/>
    <child link="RFinger23_link"/>
    <origin rpy="0 0 -0.999899" xyz="0.01436 0 0"/>
    <axis xyz="0 0 1.0"/>
    <mimic joint="RHand" multiplier="0.999899" offset="0"/>
  </joint>
  <link name="RFinger13_link">
    <inertial>
      <mass value="2e-06"/>
      <inertia ixx="1.1e-09" ixy="0" ixz="0" iyy="1.1e-09" iyz="0" izz="1.1e-09"/>
    </inertial>
    <visual>
      <geometry>
        <mesh filename="package://nao_description/meshes/V40/RFinger13.dae" />
      </geometry>
      <origin rpy="0 0 0" xyz="0 0 0"/>
    </visual>
    <collision>
      <geometry>
        <mesh filename="package://nao_description/meshes/V40/RFinger13.dae" />
      </geometry>
      <origin rpy="0 0 0" xyz="0 0 0"/>
    </collision>
  </link>
  <joint name="RFinger13" type="continuous">
    <parent link="RFinger12_link"/>
    <child link="RFinger13_link"/>
    <origin rpy="0 0 -0.999899" xyz="0.01436 0 0"/>
    <axis xyz="0 0 1.0"/>
    <mimic joint="RHand" multiplier="0.999899" offset="0"/>
  </joint>
  <link name="RFinger12_link">
    <inertial>
      <mass value="2e-06"/>
      <inertia ixx="1.1e-09" ixy="0" ixz="0" iyy="1.1e-09" iyz="0" izz="1.1e-09"/>
    </inertial>
    <visual>
      <geometry>
        <mesh filename="package://nao_description/meshes/V40/RFinger12.dae" />
      </geometry>
      <origin rpy="0 0 0" xyz="0 0 0"/>
    </visual>
    <collision>
      <geometry>
        <mesh filename="package://nao_description/meshes/V40/RFinger12.dae" />
      </geometry>
      <origin rpy="0 0 0" xyz="0 0 0"/>
    </collision>
  </link>
  <joint name="RFinger12" type="continuous">
    <parent link="RFinger11_link"/>
    <child link="RFinger12_link"/>
    <origin rpy="0 0 -0.999899" xyz="0.01436 0 0"/>
    <axis xyz="0 0 1.0"/>
    <mimic joint="RHand" multiplier="0.999899" offset="0"/>
  </joint>
  <link name="LFinger21_link">
    <inertial>
      <mass value="2e-06"/>
      <inertia ixx="1.1e-09" ixy="0" ixz="0" iyy="1.1e-09" iyz="0" izz="1.1e-09"/>
    </inertial>
    <visual>
      <geometry>
        <mesh filename="package://nao_description/meshes/V40/LFinger21.dae" />
      </geometry>
      <origin rpy="0 0 0" xyz="0 0 0"/>
    </visual>
    <collision>
      <geometry>
        <mesh filename="package://nao_description/meshes/V40/LFinger21.dae" />
      </geometry>
      <origin rpy="0 0 0" xyz="0 0 0"/>
    </collision>
  </link>
  <joint name="LFinger21" type="continuous">
    <parent link="l_wrist"/>
    <child link="LFinger21_link"/>
    <origin rpy="1.25539 0.976662 -0.264067" xyz="0.06907 -0.01157 -0.00304"/>
    <axis xyz="0 0 1.0"/>
    <mimic joint="LHand" multiplier="0.999899" offset="0"/>
  </joint>
  <link name="LFinger13_link">
    <inertial>
      <mass value="2e-06"/>
      <inertia ixx="1.1e-09" ixy="0" ixz="0" iyy="1.1e-09" iyz="0" izz="1.1e-09"/>
    </inertial>
    <visual>
      <geometry>
        <mesh filename="package://nao_description/meshes/V40/LFinger13.dae" />
      </geometry>
      <origin rpy="0 0 0" xyz="0 0 0"/>
    </visual>
    <collision>
      <geometry>
        <mesh filename="package://nao_description/meshes/V40/LFinger13.dae" />
      </geometry>
      <origin rpy="0 0 0" xyz="0 0 0"/>
    </collision>
  </link>
  <joint name="LFinger13" type="continuous">
    <parent link="LFinger12_link"/>
    <child link="LFinger13_link"/>
    <origin rpy="0 0 -0.999899" xyz="0.01436 0 0"/>
    <axis xyz="0 0 1.0"/>
    <mimic joint="LHand" multiplier="0.999899" offset="0"/>
  </joint>
  <link name="LFinger11_link">
    <inertial>
      <mass value="2e-06"/>
      <inertia ixx="1.1e-09" ixy="0" ixz="0" iyy="1.1e-09" iyz="0" izz="1.1e-09"/>
    </inertial>
    <visual>
      <geometry>
        <mesh filename="package://nao_description/meshes/V40/LFinger11.dae" />
      </geometry>
      <origin rpy="0 0 0" xyz="0 0 0"/>
    </visual>
    <collision>
      <geometry>
        <mesh filename="package://nao_description/meshes/V40/LFinger11.dae" />
      </geometry>
      <origin rpy="0 0 0" xyz="0 0 0"/>
    </collision>
  </link>
  <joint name="LFinger11" type="continuous">
    <parent link="l_wrist"/>
    <child link="LFinger11_link"/>
    <origin rpy="1.8862 0.976662 0.264067" xyz="0.06907 0.01157 -0.00304"/>
    <axis xyz="0 0 1.0"/>
    <mimic joint="LHand" multiplier="0.999899" offset="0"/>
  </joint>
  <link name="RFinger22_link">
    <inertial>
      <mass value="2e-06"/>
      <inertia ixx="1.1e-09" ixy="0" ixz="0" iyy="1.1e-09" iyz="0" izz="1.1e-09"/>
    </inertial>
    <visual>
      <geometry>
        <mesh filename="package://nao_description/meshes/V40/RFinger22.dae" />
      </geometry>
      <origin rpy="0 0 0" xyz="0 0 0"/>
    </visual>
    <collision>
      <geometry>
        <mesh filename="package://nao_description/meshes/V40/RFinger22.dae" />
      </geometry>
      <origin rpy="0 0 0" xyz="0 0 0"/>
    </collision>
  </link>
  <joint name="RFinger22" type="continuous">
    <parent link="RFinger21_link"/>
    <child link="RFinger22_link"/>
    <origin rpy="0 0 -0.999899" xyz="0.01436 0 0"/>
    <axis xyz="0 0 1.0"/>
    <mimic joint="RHand" multiplier="0.999899" offset="0"/>
  </joint>
  <link name="LFinger22_link">
    <inertial>
      <mass value="2e-06"/>
      <inertia ixx="1.1e-09" ixy="0" ixz="0" iyy="1.1e-09" iyz="0" izz="1.1e-09"/>
    </inertial>
    <visual>
      <geometry>
        <mesh filename="package://nao_description/meshes/V40/LFinger22.dae" />
      </geometry>
      <origin rpy="0 0 0" xyz="0 0 0"/>
    </visual>
    <collision>
      <geometry>
        <mesh filename="package://nao_description/meshes/V40/LFinger22.dae" />
      </geometry>
      <origin rpy="0 0 0" xyz="0 0 0"/>
    </collision>
  </link>
  <joint name="LFinger22" type="continuous">
    <parent link="LFinger21_link"/>
    <child link="LFinger22_link"/>
    <origin rpy="0 0 -0.999899" xyz="0.01436 0 0"/>
    <axis xyz="0 0 1.0"/>
    <mimic joint="LHand" multiplier="0.999899" offset="0"/>
  </joint>
  <link name="RFinger21_link">
    <inertial>
      <mass value="2e-06"/>
      <inertia ixx="1.1e-09" ixy="0" ixz="0" iyy="1.1e-09" iyz="0" izz="1.1e-09"/>
    </inertial>
    <visual>
      <geometry>
        <mesh filename="package://nao_description/meshes/V40/RFinger21.dae" />
      </geometry>
      <origin rpy="0 0 0" xyz="0 0 0"/>
    </visual>
    <collision>
      <geometry>
        <mesh filename="package://nao_description/meshes/V40/RFinger21.dae" />
      </geometry>
      <origin rpy="0 0 0" xyz="0 0 0"/>
    </collision>
  </link>
  <joint name="RFinger21" type="continuous">
    <parent link="r_wrist"/>
    <child link="RFinger21_link"/>
    <origin rpy="1.25539 0.976662 -0.264067" xyz="0.06907 -0.01157 -0.00304"/>
    <axis xyz="0 0 1.0"/>
    <mimic joint="RHand" multiplier="0.999899" offset="0"/>
  </joint>
  <link name="LFinger12_link">
    <inertial>
      <mass value="2e-06"/>
      <inertia ixx="1.1e-09" ixy="0" ixz="0" iyy="1.1e-09" iyz="0" izz="1.1e-09"/>
    </inertial>
    <visual>
      <geometry>
        <mesh filename="package://nao_description/meshes/V40/LFinger12.dae" />
      </geometry>
      <origin rpy="0 0 0" xyz="0 0 0"/>
    </visual>
    <collision>
      <geometry>
        <mesh filename="package://nao_description/meshes/V40/LFinger12.dae" />
      </geometry>
      <origin rpy="0 0 0" xyz="0 0 0"/>
    </collision>
  </link>
  <joint name="LFinger12" type="continuous">
    <parent link="LFinger11_link"/>
    <child link="LFinger12_link"/>
    <origin rpy="0 0 -0.999899" xyz="0.01436 0 0"/>
    <axis xyz="0 0 1.0"/>
    <mimic joint="LHand" multiplier="0.999899" offset="0"/>
  </joint>
  <link name="RFinger11_link">
    <inertial>
      <mass value="2e-06"/>
      <inertia ixx="1.1e-09" ixy="0" ixz="0" iyy="1.1e-09" iyz="0" izz="1.1e-09"/>
    </inertial>
    <visual>
      <geometry>
        <mesh filename="package://nao_description/meshes/V40/RFinger11.dae" />
      </geometry>
      <origin rpy="0 0 0" xyz="0 0 0"/>
    </visual>
    <collision>
      <geometry>
        <mesh filename="package://nao_description/meshes/V40/RFinger11.dae" />
      </geometry>
      <origin rpy="0 0 0" xyz="0 0 0"/>
    </collision>
  </link>
  <joint name="RFinger11" type="continuous">
    <parent link="r_wrist"/>
    <child link="RFinger11_link"/>
    <origin rpy="1.8862 0.976662 0.264067" xyz="0.06907 0.01157 -0.00304"/>
    <axis xyz="0 0 1.0"/>
    <mimic joint="RHand" multiplier="0.999899" offset="0"/>
  </joint>
  <link name="LFinger23_link">
    <inertial>
      <mass value="2e-06"/>
      <inertia ixx="1.1e-09" ixy="0" ixz="0" iyy="1.1e-09" iyz="0" izz="1.1e-09"/>
    </inertial>
    <visual>
      <geometry>
        <mesh filename="package://nao_description/meshes/V40/LFinger23.dae" />
      </geometry>
      <origin rpy="0 0 0" xyz="0 0 0"/>
    </visual>
    <collision>
      <geometry>
        <mesh filename="package://nao_description/meshes/V40/LFinger23.dae" />
      </geometry>
      <origin rpy="0 0 0" xyz="0 0 0"/>
    </collision>
  </link>
  <joint name="LFinger23" type="continuous">
    <parent link="LFinger22_link"/>
    <child link="LFinger23_link"/>
    <origin rpy="0 0 -0.999899" xyz="0.01436 0 0"/>
    <axis xyz="0 0 1.0"/>
    <mimic joint="LHand" multiplier="0.999899" offset="0"/>
  </joint>
  <link name="LThumb1_link">
    <inertial>
      <mass value="2e-06"/>
      <inertia ixx="1.1e-09" ixy="0" ixz="0" iyy="1.1e-09" iyz="0" izz="1.1e-09"/>
    </inertial>
    <visual>
      <geometry>
        <mesh filename="package://nao_description/meshes/V40/LThumb1.dae" />
      </geometry>
      <origin rpy="0 0 0" xyz="0 0 0"/>
    </visual>
    <collision>
      <geometry>
        <mesh filename="package://nao_description/meshes/V40/LThumb1.dae" />
      </geometry>
      <origin rpy="0 0 0" xyz="0 0 0"/>
    </collision>
  </link>
  <joint name="LThumb1" type="continuous">
    <parent link="l_wrist"/>
    <child link="LThumb1_link"/>
    <origin rpy="-1.5708 0.0472984 -3.26826e-08" xyz="0.04895 0 -0.02638"/>
    <axis xyz="0 0 1.0"/>
    <mimic joint="LHand" multiplier="0.999899" offset="0"/>
  </joint>
  <link name="RThumb1_link">
    <inertial>
      <mass value="2e-06"/>
      <inertia ixx="1.1e-09" ixy="0" ixz="0" iyy="1.1e-09" iyz="0" izz="1.1e-09"/>
    </inertial>
    <visual>
      <geometry>
        <mesh filename="package://nao_description/meshes/V40/RThumb1.dae" />
      </geometry>
      <origin rpy="0 0 0" xyz="0 0 0"/>
    </visual>
    <collision>
      <geometry>
        <mesh filename="package://nao_description/meshes/V40/RThumb1.dae" />
      </geometry>
      <origin rpy="0 0 0" xyz="0 0 0"/>
    </collision>
  </link>
  <joint name="RThumb1" type="continuous">
    <parent link="r_wrist"/>
    <child link="RThumb1_link"/>
    <origin rpy="-1.5708 0.0472984 -3.26826e-08" xyz="0.04895 0 -0.02638"/>
    <axis xyz="0 0 1.0"/>
    <mimic joint="RHand" multiplier="0.999899" offset="0"/>
  </joint>
  <link name="RThumb2_link">
    <inertial>
      <mass value="2e-06"/>
      <inertia ixx="1.1e-09" ixy="0" ixz="0" iyy="1.1e-09" iyz="0" izz="1.1e-09"/>
    </inertial>
    <visual>
      <geometry>
        <mesh filename="package://nao_description/meshes/V40/RThumb2.dae" />
      </geometry>
      <origin rpy="0 0 0" xyz="0 0 0"/>
    </visual>
    <collision>
      <geometry>
        <mesh filename="package://nao_description/meshes/V40/RThumb2.dae" />
      </geometry>
      <origin rpy="0 0 0" xyz="0 0 0"/>
    </collision>
  </link>
  <joint name="RThumb2" type="continuous">
    <parent link="RThumb1_link"/>
    <child link="RThumb2_link"/>
    <origin rpy="0 0 -0.999899" xyz="0.01436 0 0"/>
    <axis xyz="0 0 1.0"/>
    <mimic joint="RHand" multiplier="0.999899" offset="0"/>
  </joint>
  <link name="LThumb2_link">
    <inertial>
      <mass value="2e-06"/>
      <inertia ixx="1.1e-09" ixy="0" ixz="0" iyy="1.1e-09" iyz="0" izz="1.1e-09"/>
    </inertial>
    <visual>
      <geometry>
        <mesh filename="package://nao_description/meshes/V40/LThumb2.dae" />
      </geometry>
      <origin rpy="0 0 0" xyz="0 0 0"/>
    </visual>
    <collision>
      <geometry>
        <mesh filename="package://nao_description/meshes/V40/LThumb2.dae" />
      </geometry>
      <origin rpy="0 0 0" xyz="0 0 0"/>
    </collision>
  </link>
  <joint name="LThumb2" type="continuous">
    <parent link="LThumb1_link"/>
    <child link="LThumb2_link"/>
    <origin rpy="0 0 -0.999899" xyz="0.01436 0 0"/>
    <axis xyz="0 0 1.0"/>
    <mimic joint="LHand" multiplier="0.999899" offset="0"/>
  </joint>
  <link name="xtion_link">
    <visual name="asus_xtion">
      <origin rpy="0 0 0" xyz="0 0 0"/>
      <geometry>
        <mesh filename="package://nao_description/meshes/V40/ASUS_XTION.dae"/>
      </geometry>
    </visual>
  </link>
  <joint name="xtion_joint" type="fixed">
    <parent link="Head"/>
    <child link="xtion_link"/>
    <origin rpy="3.09123 2.72778 3.0839" xyz="0.00322046 0.0402703 0.148005"/>
  </joint>
</robot>
